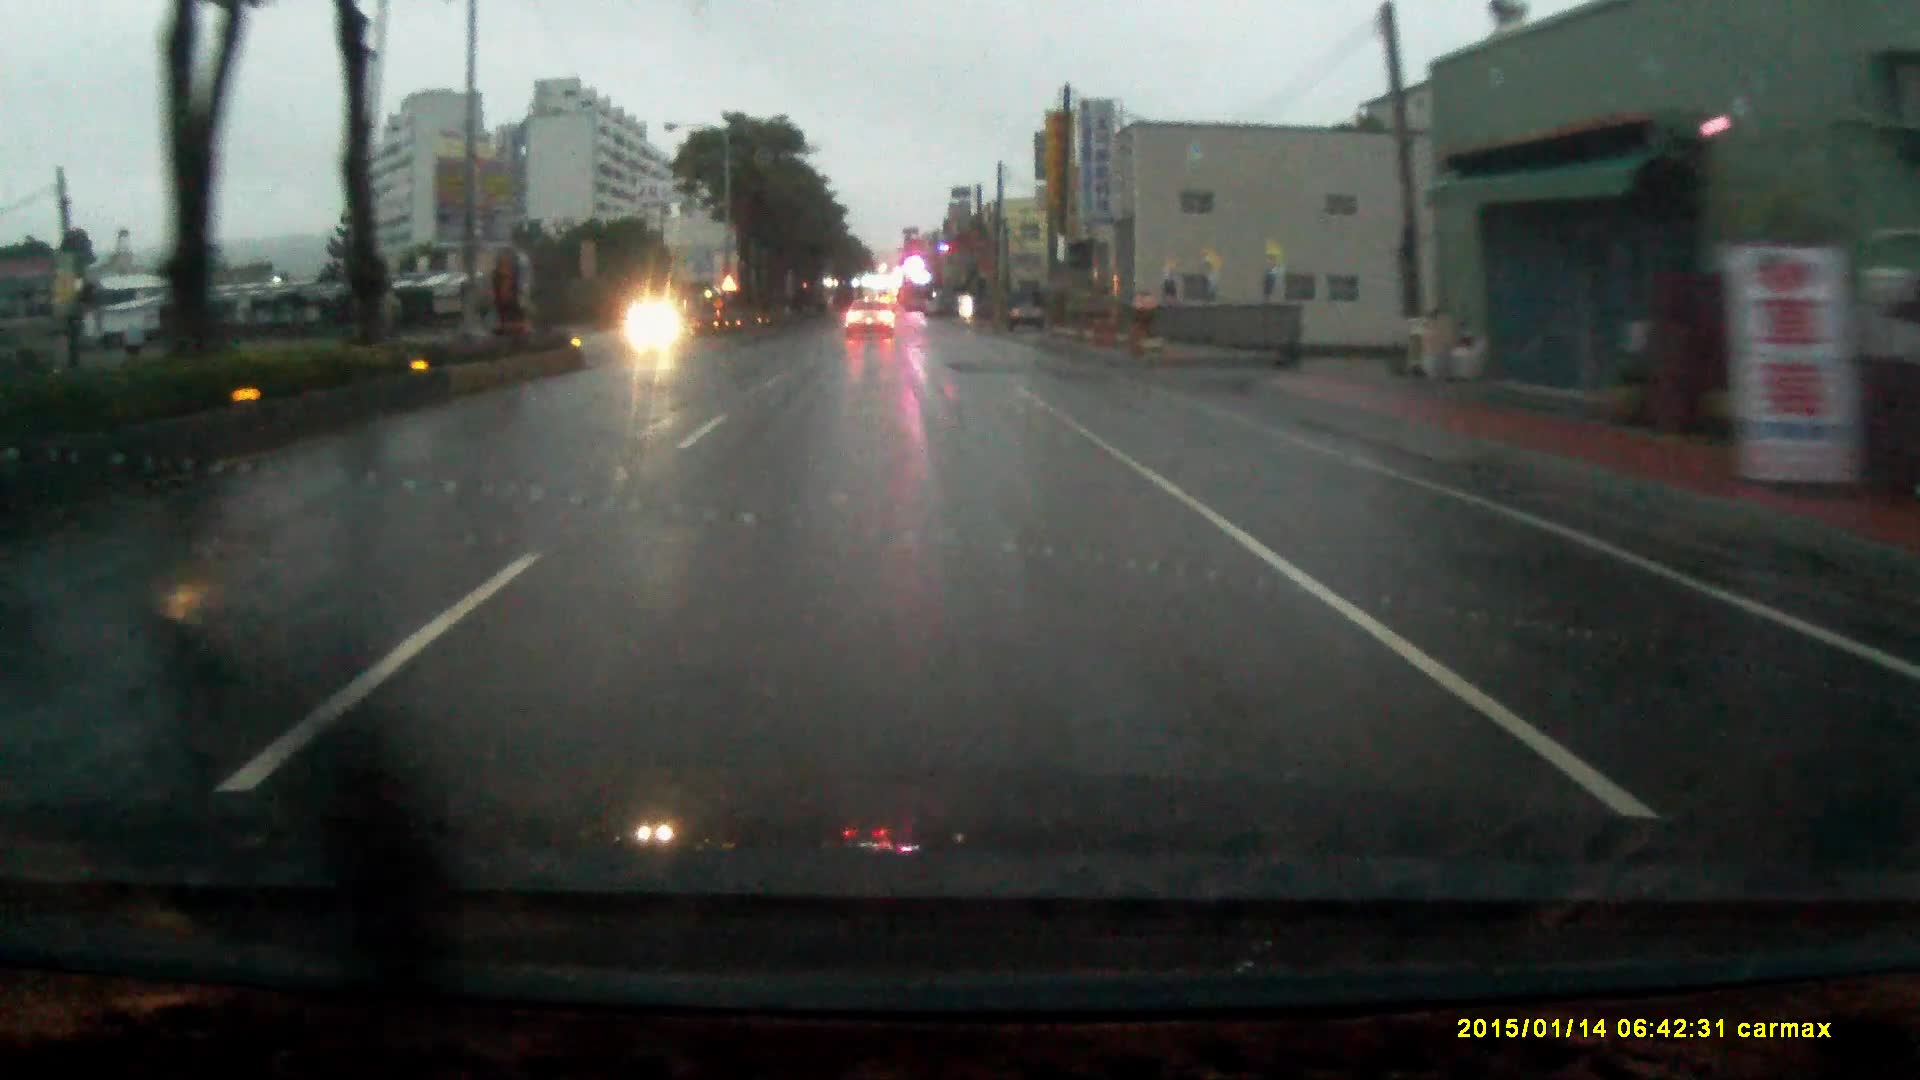vehicle: (847, 305, 899, 345), (1011, 285, 1048, 327)
